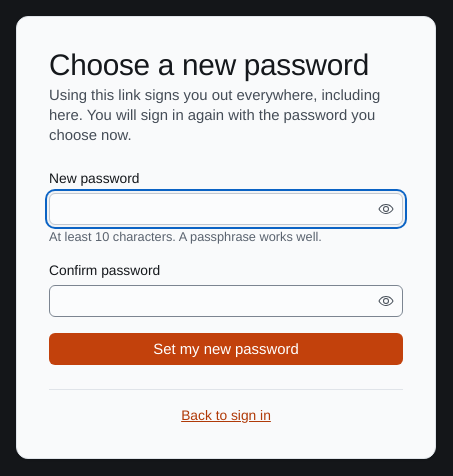
Scenario: ResetPasswordPage › treats a refused token as a dead link, not as something to retype
This screenshot has width=453, height=476.
Type "analytical-engine-1843" into the password field labelled "New password". click: (212, 209)
box: [50,194,374,224]
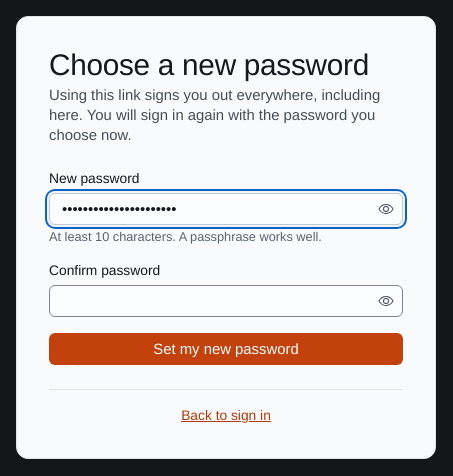
Type "analytical-engine-1843" into the password field labelled "Confirm password". click: (212, 301)
box: [50,286,374,316]
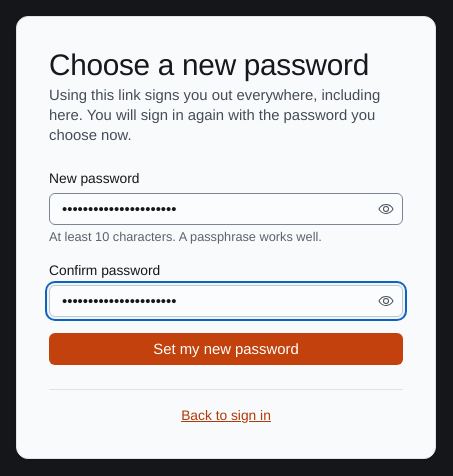
Click the button "Set my new password". click: click(226, 349)
box: [49,333,403,365]
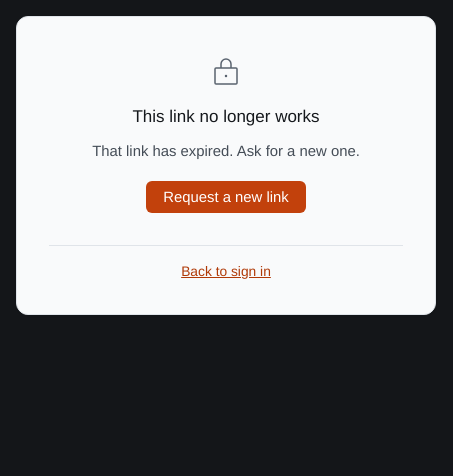
Now the heading "This link no longer works" is shown, box [132,106,320,127]
Now the message shows "That link has expired", box [92,142,360,160]
Now the link "Request a new link" is shown, box [146,181,306,213]
